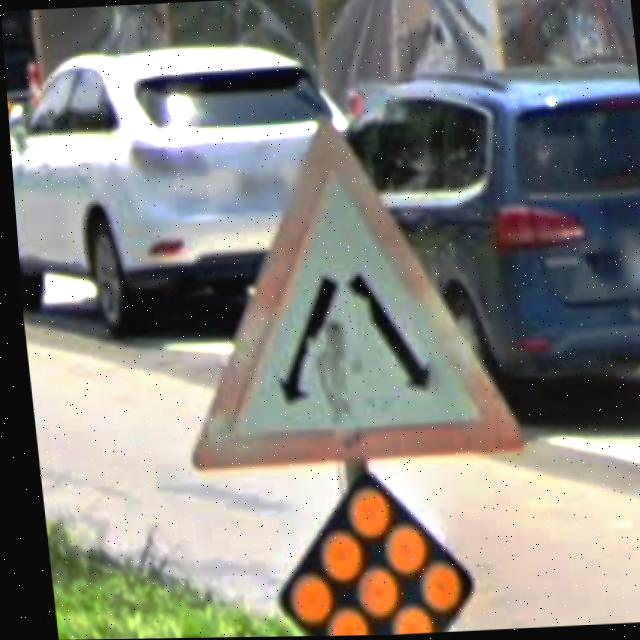diverge: (156, 109, 523, 466)
